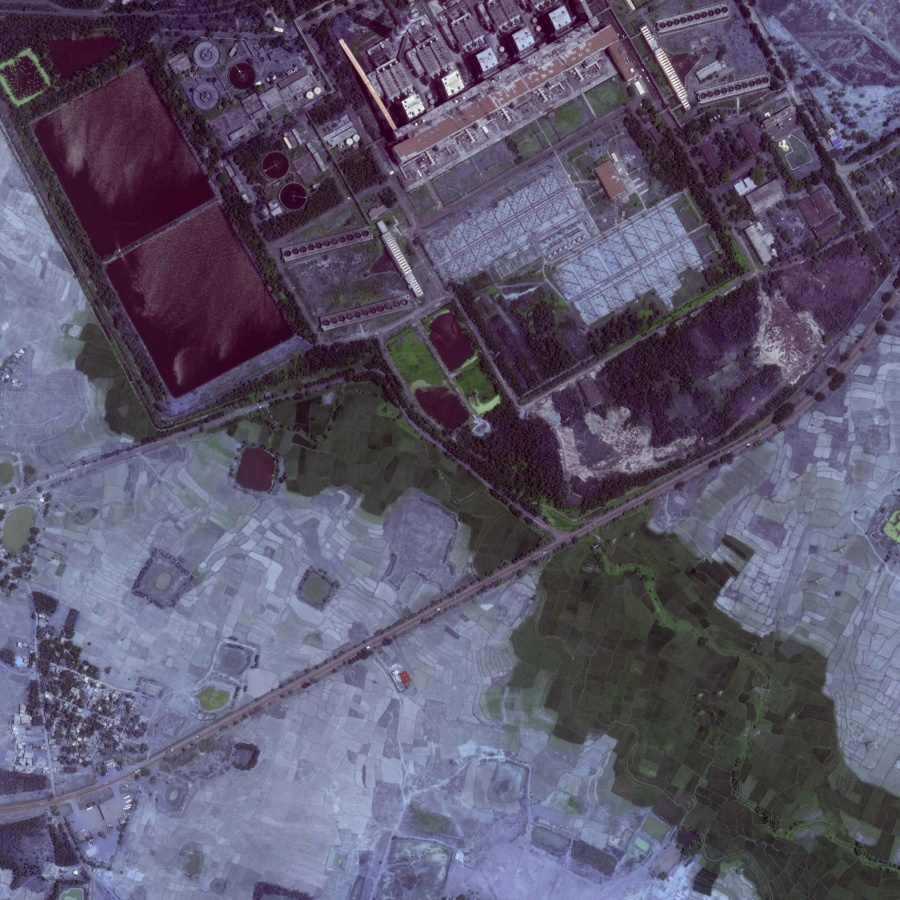PowerPlant: (5, 39, 368, 442)
